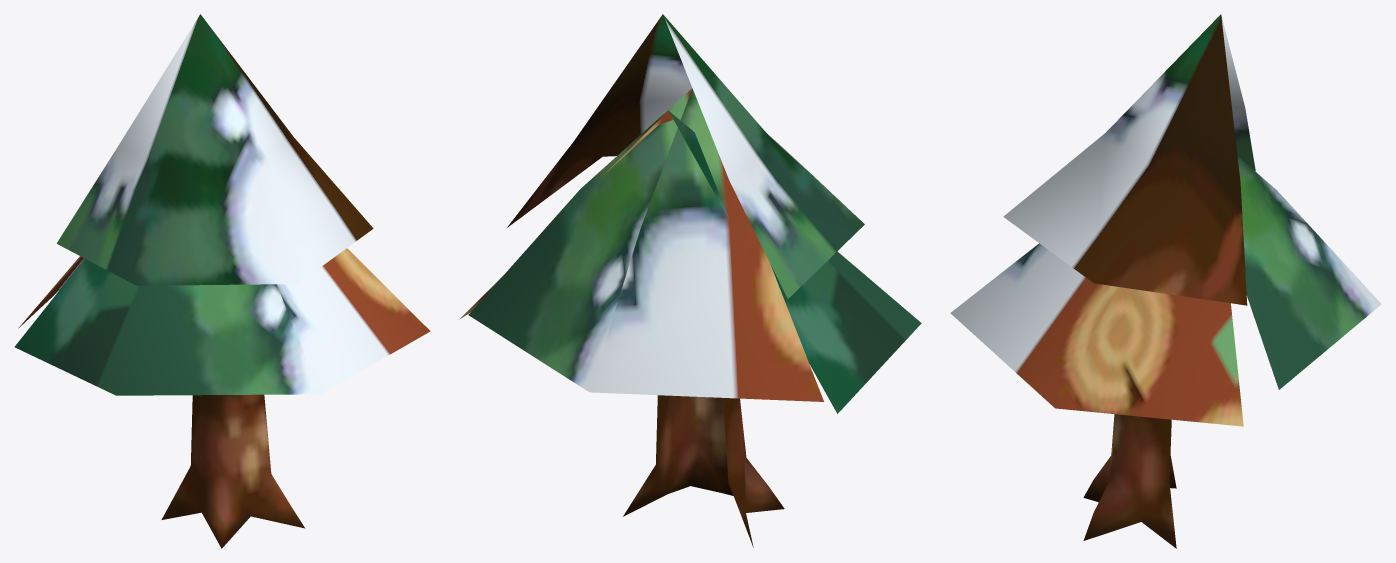
File: fg_treeB_1.dae
3 views of the same model, side by side, from view 1: azimuth 30°, elevation 25°; view 2: azimuth 150°, elevation 25°; view 3: azimuth 270°, elevation 25° (orthographic). The views are drawn at different scales.
Parts seen in each view (by area): view 1: fg_treeB_1; view 2: fg_treeB_1; view 3: fg_treeB_1.
Part boxes in pixels (box(x1,y1,x2,y2)): fg_treeB_1: box(14, 14, 430, 548); fg_treeB_1: box(459, 14, 921, 547); fg_treeB_1: box(950, 14, 1381, 548).
Size of the model in its own units: 32.27 by 43.12 by 33.31.
1 material, 1 textured.
